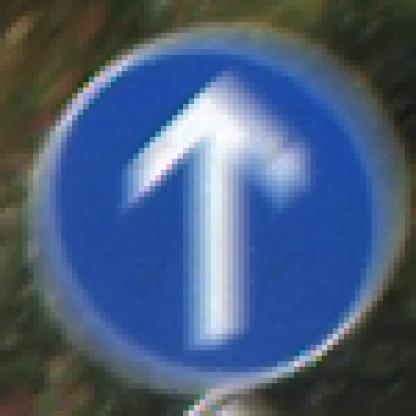AheadOnly: (40, 39, 384, 384)
